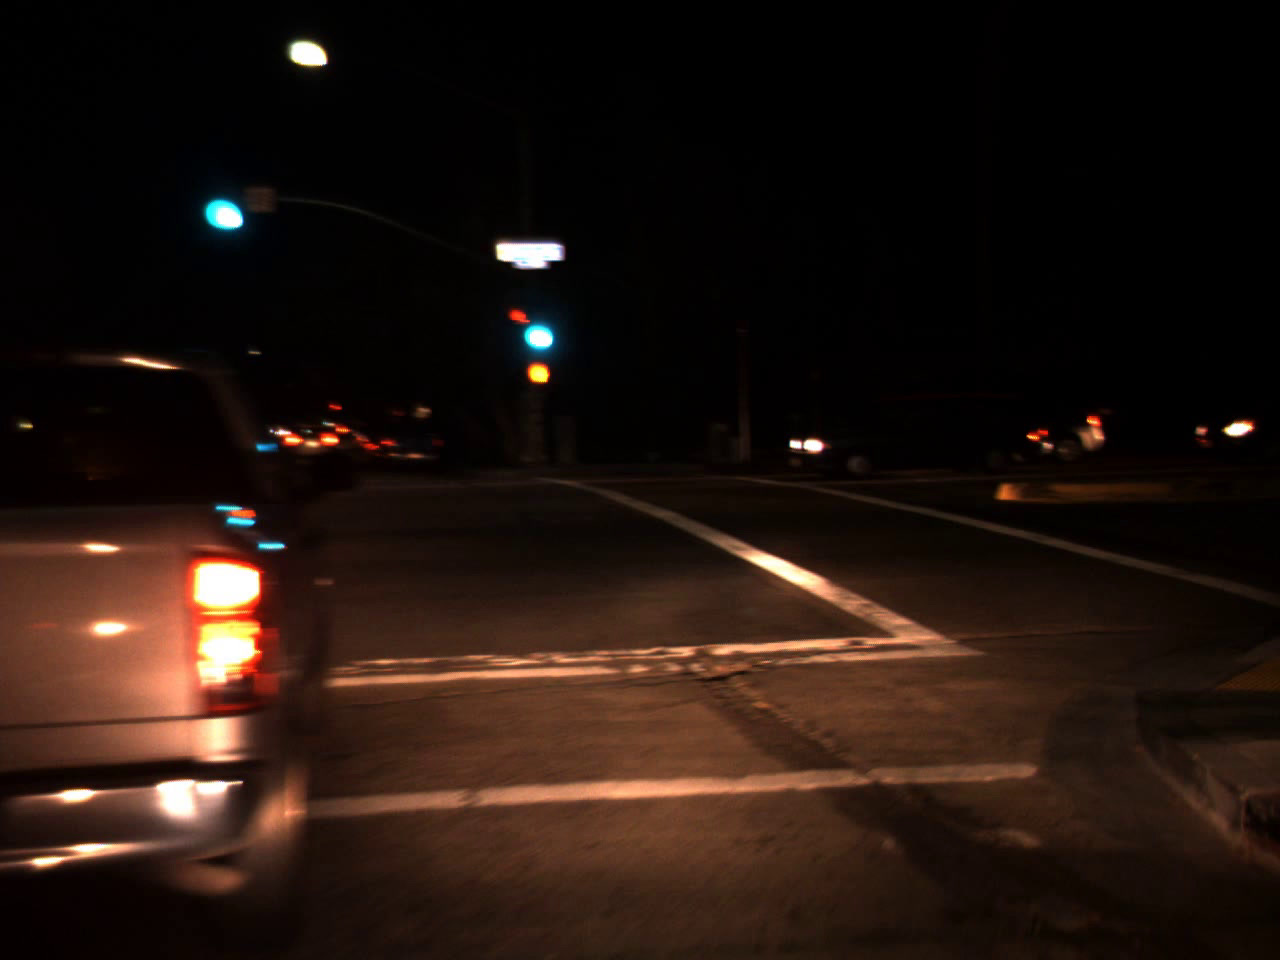go: (197, 165, 249, 243), (511, 291, 561, 360)
